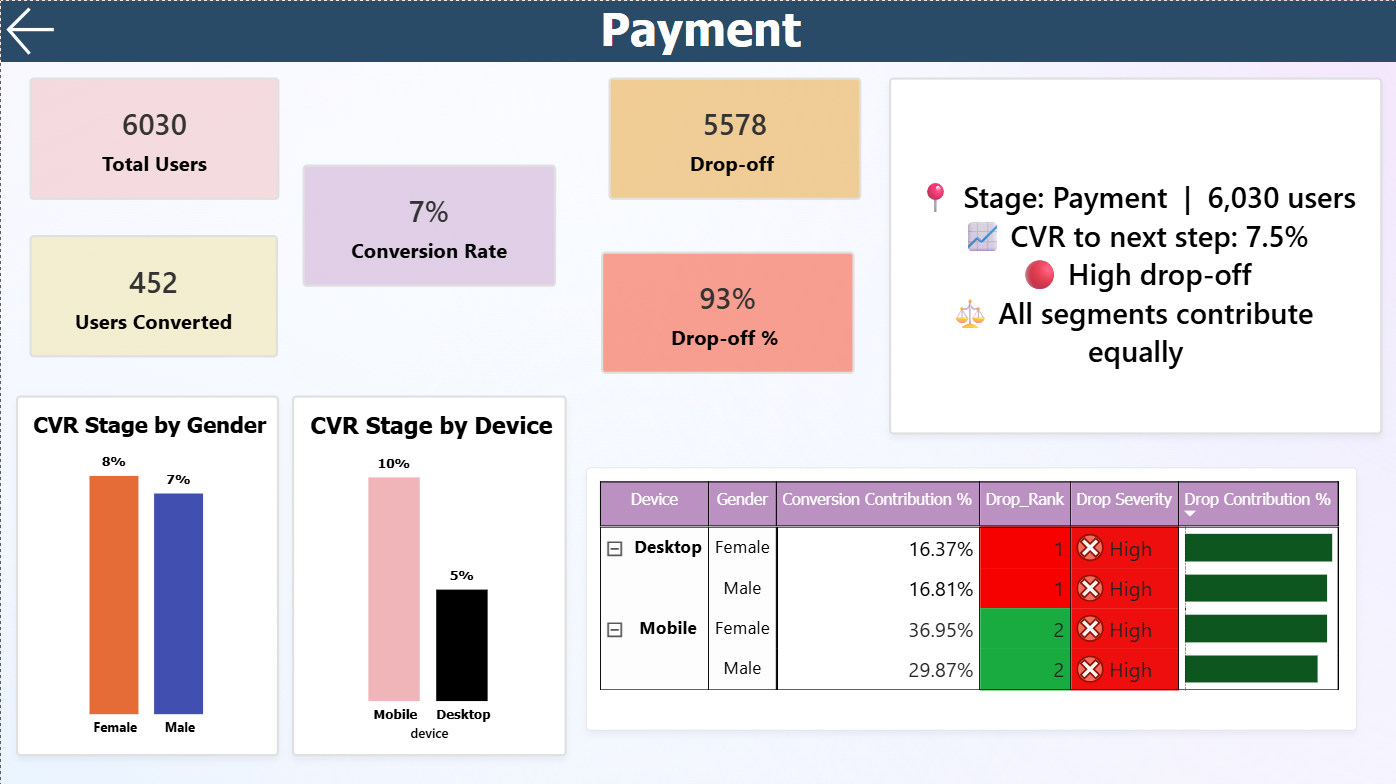

This screenshot's page, from the dashboard's own definition file:
{"tool":"powerbi","page":{"name":"Stage Deep Dive","canvas":[1280,720],"ordinal":3},"visuals":[{"type":"textbox","box":[0,0,1280,55.4],"z":0},{"type":"card","title":"TOTAL USERS","fields":{"Values":["Measure_Table.Total Users"]},"box":[25.8,69.7,228.7,112.1],"z":1000},{"type":"card","title":"TOTAL USERS","fields":{"Values":["Measure_Table.Users_Converted"]},"box":[25.8,213.6,227.2,112.1],"z":2000},{"type":"card","title":"TOTAL USERS","fields":{"Values":["Measure_Table.Drop-off Stage"]},"box":[555.9,69.7,231,112.1],"z":3000},{"type":"card","title":"TOTAL USERS","fields":{"Values":["Measure_Table.Drop-off % Stage"]},"box":[548.4,228.7,231.8,112.1],"z":4000},{"type":"clusteredColumnChart","title":"CVR Stage by Device","fields":{"Category":["funnel_data.device"],"Y":["Measure_Table.CVR Stage"]},"box":[266.6,360.5,251.5,330.2],"z":5000},{"type":"clusteredColumnChart","fields":{"Category":["funnel_data.sex"],"Y":["Measure_Table.CVR Stage"]},"box":[13.6,360.5,240.9,330.2],"z":6000},{"type":"actionButton","box":[0,0,61.6,55.3],"z":7000},{"type":"card","title":"TOTAL USERS","fields":{"Values":["Measure_Table.CVR Stage"]},"box":[275.7,150,231.8,112.1],"z":8000},{"type":"pivotTable","fields":{"Values":["Measure_Table.Conversion Contribution %","Measure_Table.Drop_Rank","Measure_Table.Drop Severity","Measure_Table.Drop Contribution %"],"Rows":["funnel_data.device","funnel_data.sex"]},"box":[535,427.2,705.6,240.5],"z":9000},{"type":"card","fields":{"Values":["Measure_Table.Insight Text Stage"]},"box":[812.4,70,451.5,326.6],"z":10000}]}

Visuals, with their boxes in screenshot pixels (x1, y1, x2, y2), scaled from the page's 1280x720 canvas onto the 1396x784 screenshot:
textbox: rect(0, 0, 1395, 60)
"TOTAL USERS" card: rect(28, 76, 278, 198)
"TOTAL USERS" card: rect(28, 233, 276, 355)
"TOTAL USERS" card: rect(606, 76, 858, 198)
"TOTAL USERS" card: rect(598, 249, 851, 371)
"CVR Stage by Device" clusteredColumnChart: rect(291, 393, 565, 752)
clusteredColumnChart - funnel_data.sex x Measure_Table.CVR Stage: rect(15, 393, 278, 752)
actionButton: rect(0, 0, 67, 60)
"TOTAL USERS" card: rect(301, 163, 553, 285)
pivotTable - Measure_Table.Conversion Contribution % x Measure_Table.Drop_Rank: rect(583, 465, 1353, 727)
card - Measure_Table.Insight Text Stage: rect(886, 76, 1378, 432)
